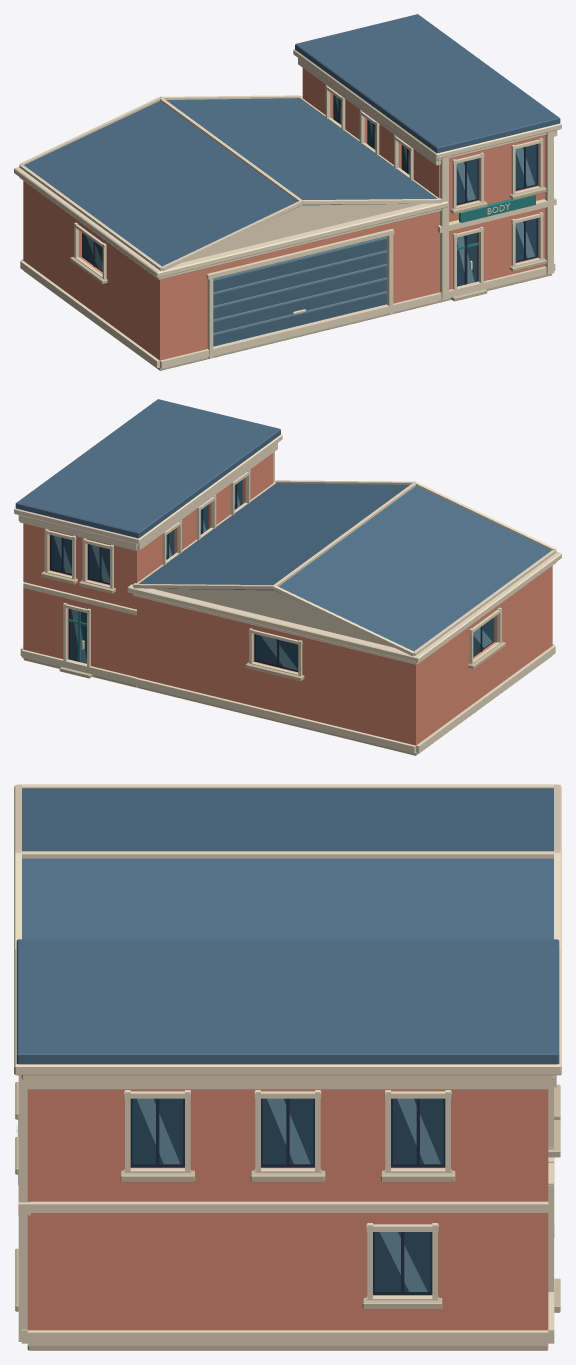
The model's file is body_repair_workshop.glb.
3 renders of one model, top to bottom at view 1: azimuth 30°, elevation 25°; view 2: azimuth 150°, elevation 25°; view 3: azimuth 270°, elevation 25°, orthographic. The views are drawn at different scales.
Parts seen in each view (by area): view 1: BodyRepairWorkshop_StaticMesh; view 2: BodyRepairWorkshop_StaticMesh; view 3: BodyRepairWorkshop_StaticMesh.
Part boxes in pixels (x1,y1,x2,y2): BodyRepairWorkshop_StaticMesh: (14,14,561,370); BodyRepairWorkshop_StaticMesh: (14,399,561,755); BodyRepairWorkshop_StaticMesh: (14,784,561,1350).
Size of the model in its own units: 17.12 by 6.4 by 10.52.
